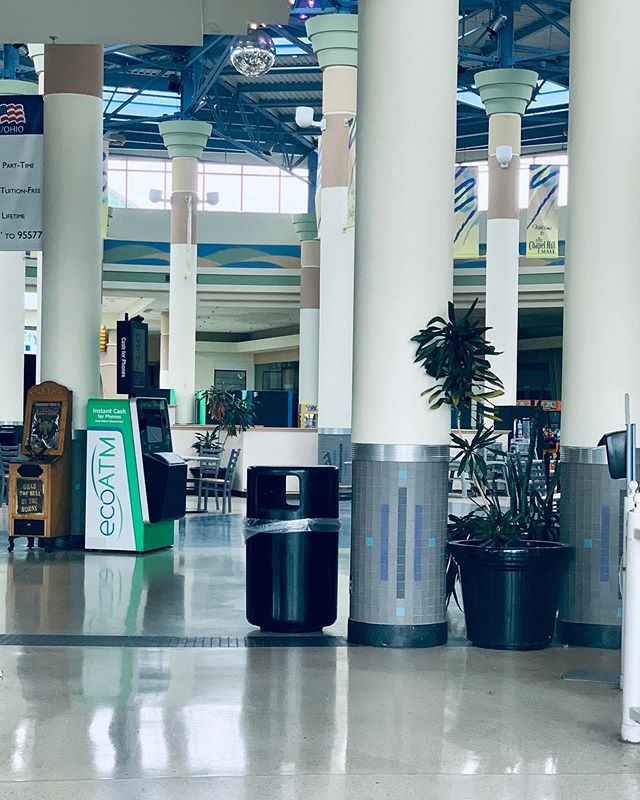collumn: (342, 1, 471, 646), (31, 24, 116, 397), (299, 11, 357, 489), (462, 69, 529, 410), (162, 114, 205, 424)
trash can: (245, 454, 329, 642)
